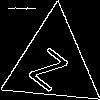Z: (27, 38, 75, 93)
